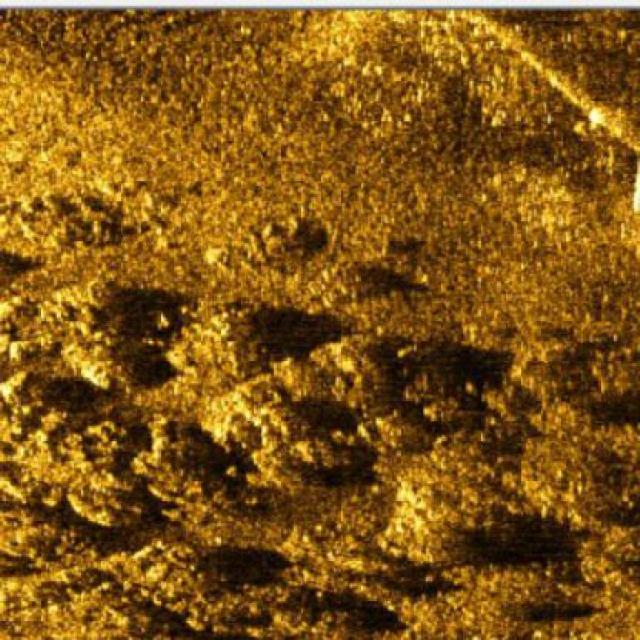bedrock group: (0, 279, 638, 638)
